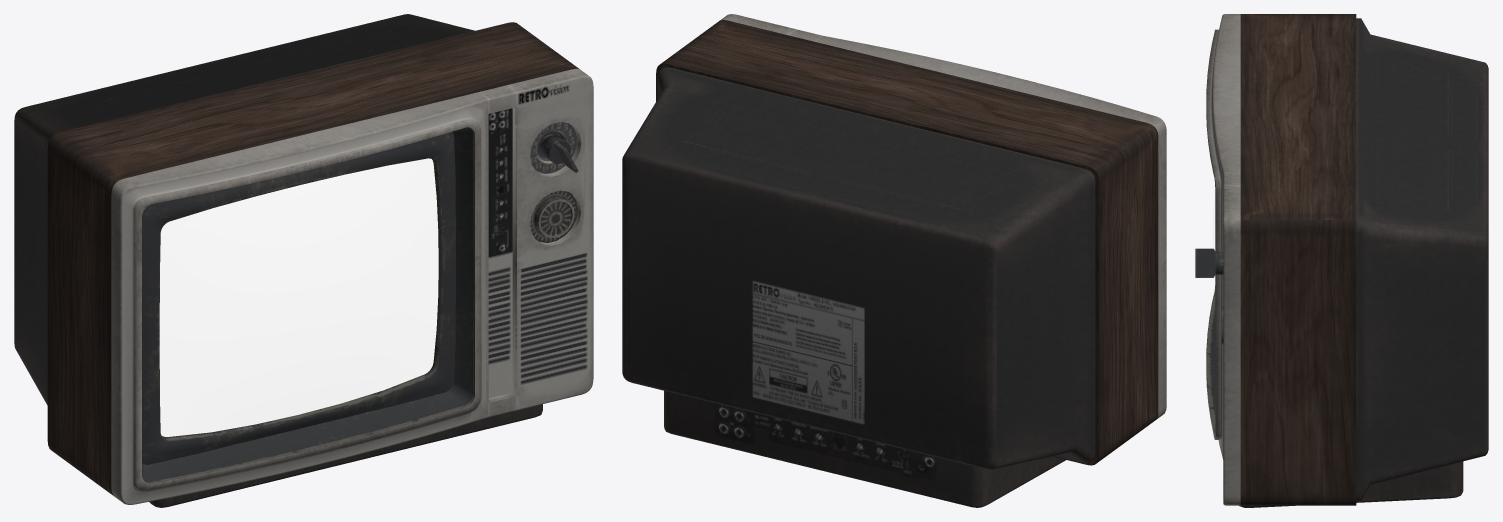
3 renders of one model, left to right at view 1: azimuth 30°, elevation 25°; view 2: azimuth 150°, elevation 25°; view 3: azimuth 270°, elevation 25°, orthographic. The views are drawn at different scales.
Visible parts, largest first — view 1: TV_LP_02 - Default_0, screen, TV_LP_08 - Default_0, TV_LP_03 - Default_0, TV_LP_07 - Default_0, toggler; view 2: TV_LP_07 - Default_0, TV_LP_08 - Default_0, TV_LP_02 - Default_0; view 3: TV_LP_07 - Default_0, TV_LP_08 - Default_0, TV_LP_02 - Default_0, TV_LP_03 - Default_0, toggler.
Boxes of the visible parts, bbox=[...] form: TV_LP_02 - Default_0: bbox=[111, 68, 593, 504]; screen: bbox=[159, 158, 438, 436]; TV_LP_08 - Default_0: bbox=[47, 22, 579, 495]; TV_LP_03 - Default_0: bbox=[142, 127, 577, 483]; TV_LP_07 - Default_0: bbox=[14, 14, 542, 507]; toggler: bbox=[540, 134, 578, 172]; TV_LP_07 - Default_0: bbox=[622, 67, 1095, 507]; TV_LP_08 - Default_0: bbox=[656, 20, 1158, 465]; TV_LP_02 - Default_0: bbox=[720, 14, 1166, 419]; TV_LP_07 - Default_0: bbox=[1239, 18, 1488, 507]; TV_LP_08 - Default_0: bbox=[1240, 14, 1356, 505]; TV_LP_02 - Default_0: bbox=[1206, 14, 1240, 505]; TV_LP_03 - Default_0: bbox=[1206, 286, 1223, 431]; toggler: bbox=[1195, 248, 1223, 277].
Bounding box in the file's own units: 48.12 × 32.92 × 28.44.
5 materials, 4 textured.
